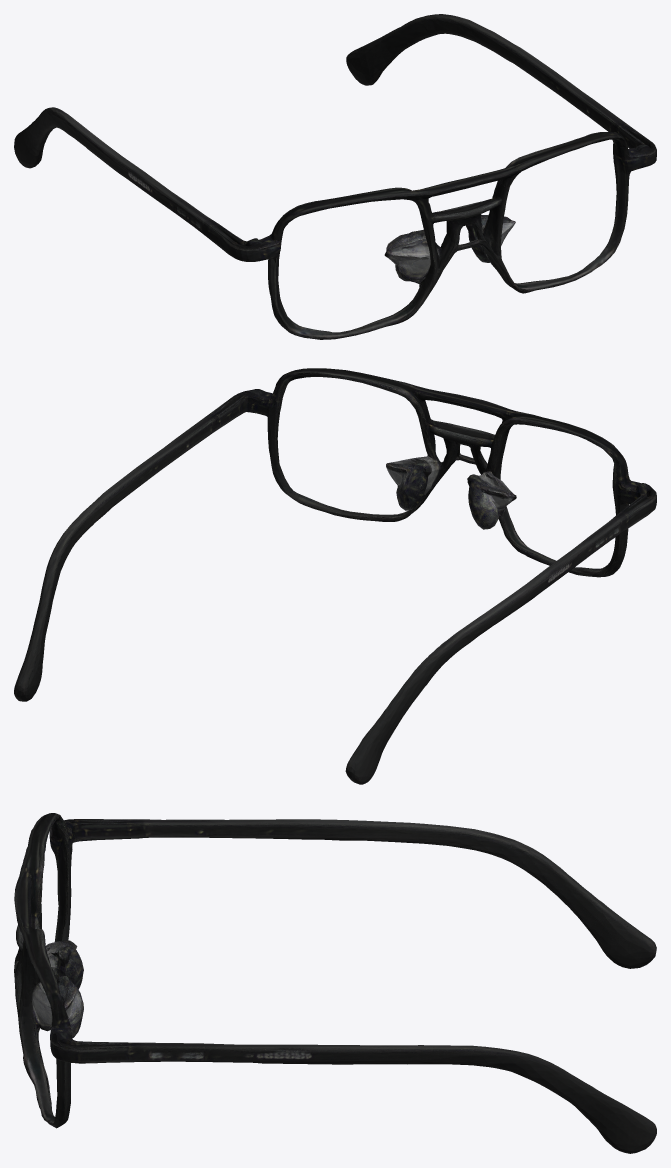
The model's file is 10-OXFOUR-LUX-HR-MM-1007.glb.
The picture shows the model from 3 angles, top to bottom: view 1: azimuth 30°, elevation 25°; view 2: azimuth 150°, elevation 25°; view 3: azimuth 270°, elevation 25°; orthographic projection. The views are drawn at different scales.
Parts seen in each view (by area): view 1: world; view 2: world; view 3: world.
Part boxes in pixels (bbox=[...]): world: bbox=[14, 14, 656, 339]; world: bbox=[14, 368, 656, 784]; world: bbox=[14, 813, 656, 1153].
Bounding box in the file's own units: 1.7 × 0.5736 × 2.
Materials: 1 (1 with a texture image).
